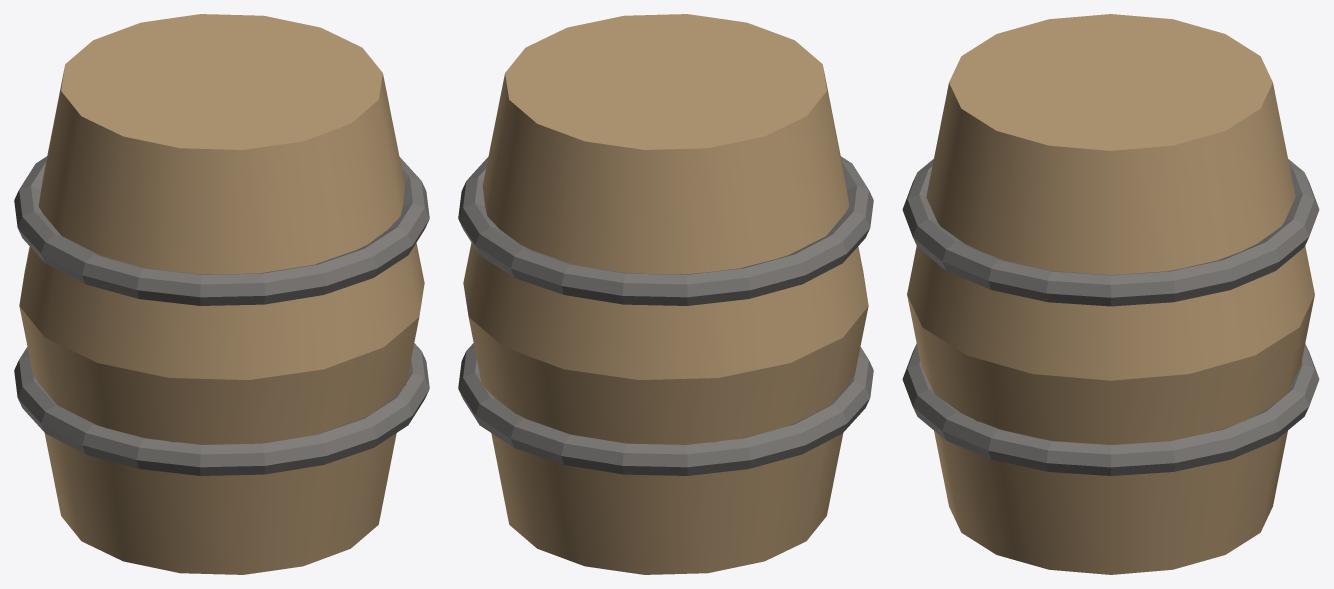
File: barrel.glb
3 renders of one model, left to right at view 1: azimuth 30°, elevation 25°; view 2: azimuth 150°, elevation 25°; view 3: azimuth 270°, elevation 25°, orthographic.
Parts seen in each view (by area): view 1: upper, lower, hoop2, hoop1; view 2: upper, lower, hoop2, hoop1; view 3: upper, lower, hoop2, hoop1.
Part boxes in pixels (x1=…): upper: x1=19, y1=14, x2=424, y2=379; lower: x1=19, y1=306, x2=419, y2=574; hoop2: x1=14, y1=156, x2=429, y2=305; hoop1: x1=14, y1=343, x2=429, y2=475; upper: x1=463, y1=14, x2=868, y2=379; lower: x1=468, y1=306, x2=868, y2=574; hoop2: x1=458, y1=156, x2=873, y2=305; hoop1: x1=458, y1=343, x2=873, y2=475; upper: x1=907, y1=14, x2=1314, y2=380; lower: x1=907, y1=295, x2=1314, y2=574; hoop2: x1=902, y1=159, x2=1319, y2=306; hoop1: x1=902, y1=344, x2=1319, y2=475.
Size of the model in its own units: 0.6952 by 0.78 by 0.6952.
